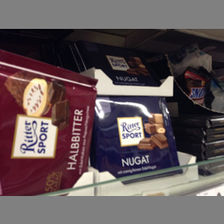chocolate: (1, 47, 95, 197), (92, 95, 187, 182), (74, 41, 167, 87)
